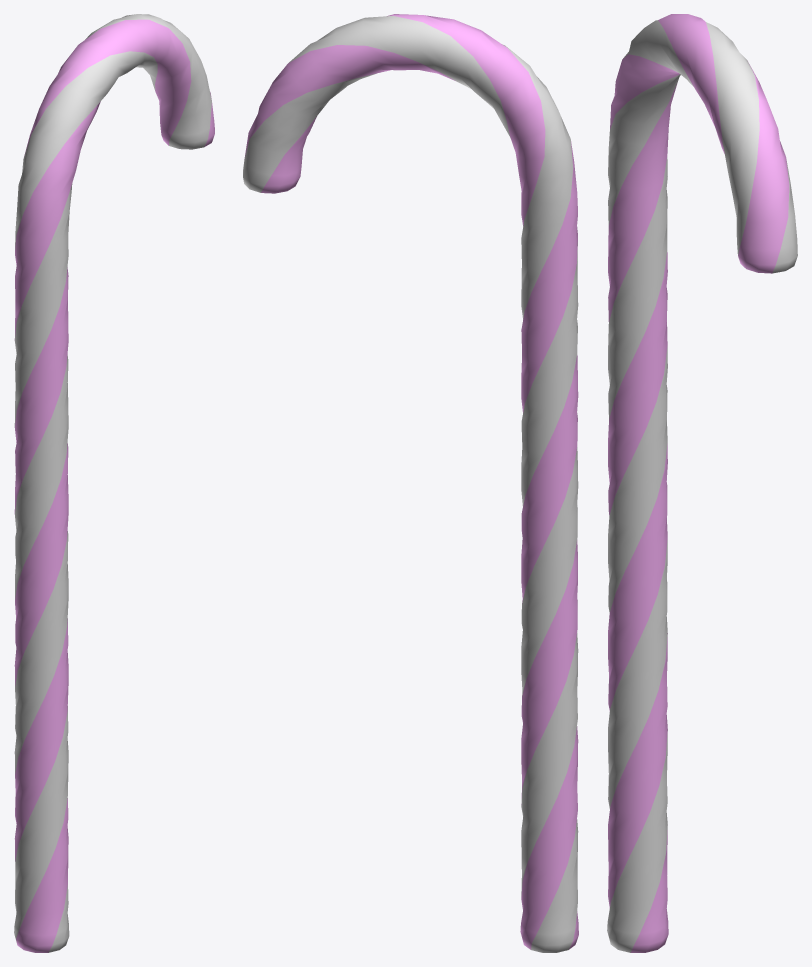
File: Polkagris_12.glb
3 views of the same model, side by side, from view 1: azimuth 30°, elevation 25°; view 2: azimuth 150°, elevation 25°; view 3: azimuth 270°, elevation 25° (orthographic). The views are drawn at different scales.
Visible parts, largest first — view 1: Polkagrisar.012; view 2: Polkagrisar.012; view 3: Polkagrisar.012.
Boxes of the visible parts, x1,y1,x2,y2 form: Polkagrisar.012: (14, 14, 214, 952); Polkagrisar.012: (243, 14, 578, 952); Polkagrisar.012: (607, 14, 797, 952).
Bounding box in the file's own units: 0.7485 × 2.48 × 0.441.
